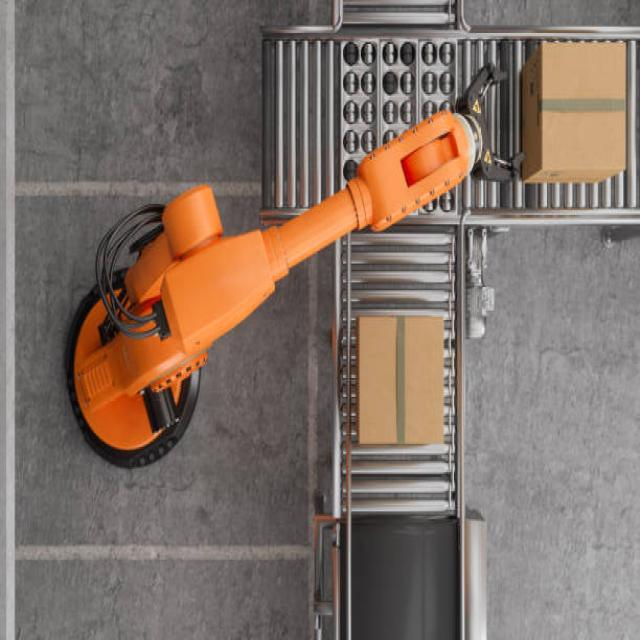Robotic-arm: (56, 59, 526, 473)
